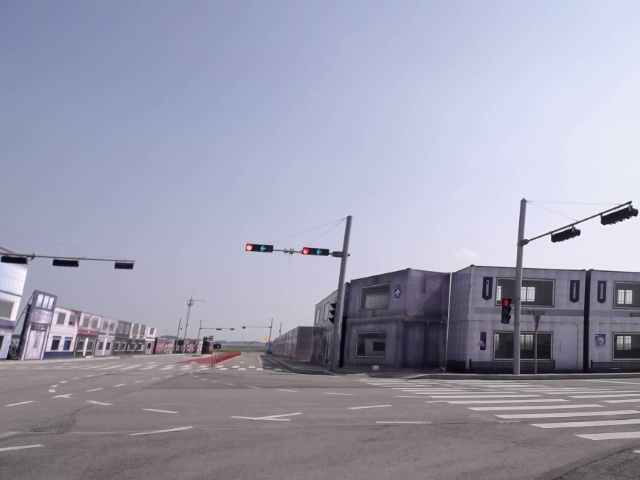left_green_4: (246, 244, 273, 253), (303, 248, 328, 256)
